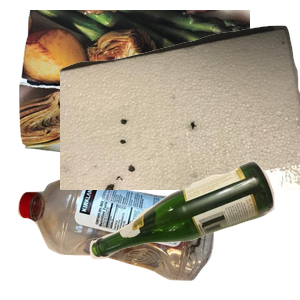glass: (87, 158, 300, 300)
paper: (16, 10, 256, 172)
plastic: (15, 173, 222, 300)
trash: (60, 23, 300, 203)
